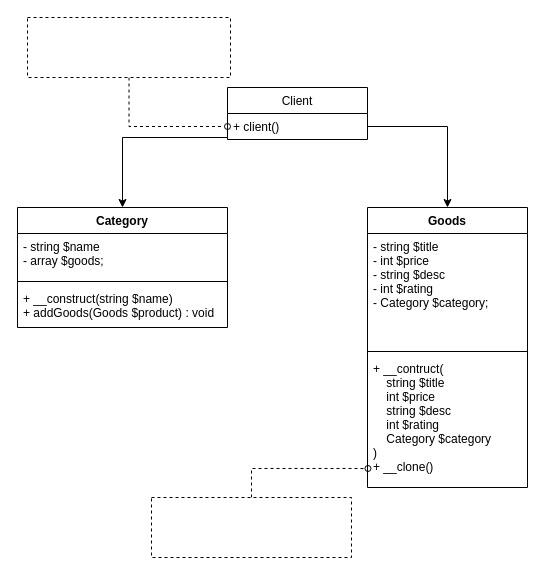
This 545x575 diagram has some shape labels left out. The shapes that lost their labels are listed below. From the top down, each one's centre as x and y in pixels, then its label:
(x=128, y=47): $productCopy = clone Goods $product;
(x=251, y=527): $this->title = '{COPY}'.$this->title; $this->price = -1;
